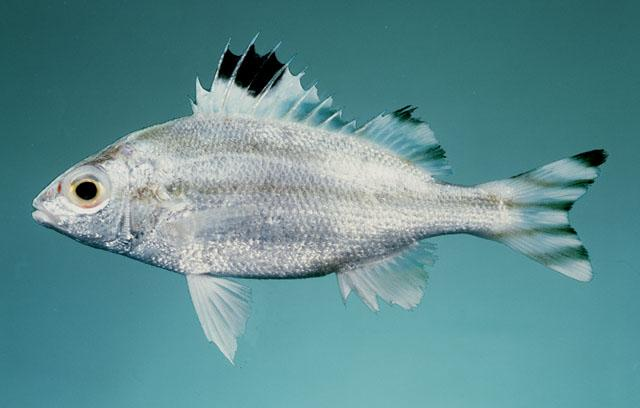Mulut: (26, 180, 66, 244)
Sirip Anal: (334, 235, 446, 323)
Sirip Dada: (158, 200, 266, 256)
Sirip Ekor: (500, 143, 612, 289)
Sirip Perut: (184, 272, 264, 368)
Sirip Punggung: (186, 31, 456, 183)
